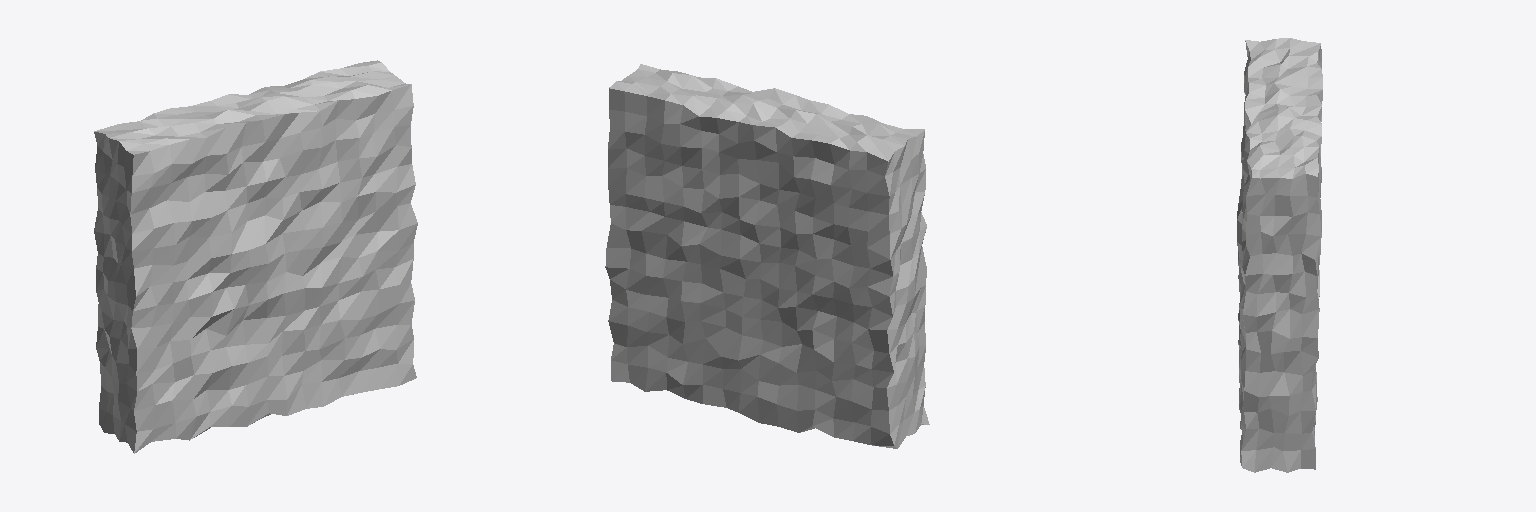
Rendered from RockBreak.obj.
The picture shows the model from 3 angles: view 1: azimuth 30°, elevation 25°; view 2: azimuth 150°, elevation 25°; view 3: azimuth 270°, elevation 25°; orthographic projection.
Parts seen in each view (by area): view 1: Cube.003; view 2: Cube.003; view 3: Cube.003.
Part boxes in pixels (x1,y1,x2,y2): Cube.003: (94,60,417,453); Cube.003: (605,64,929,448); Cube.003: (1237,38,1322,472).
Bounding box in the file's own units: 2.4 × 2.45 × 0.624.